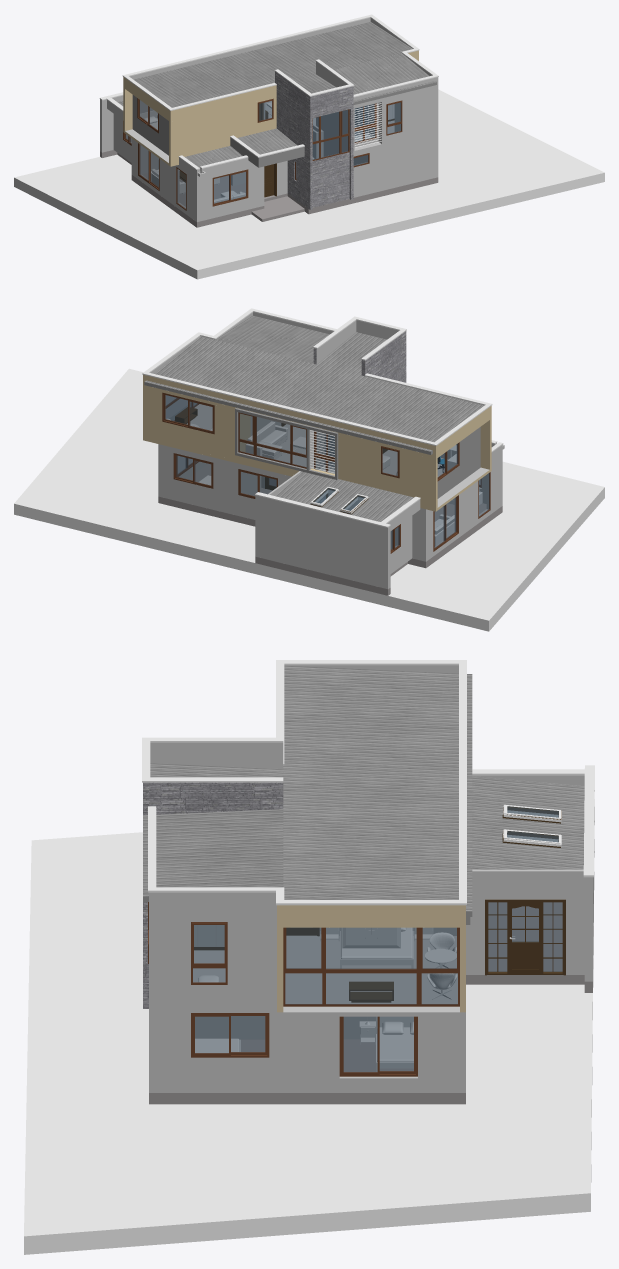
The model's file is casa_moderna.glb.
The picture shows the model from 3 angles, top to bottom: view 1: azimuth 30°, elevation 25°; view 2: azimuth 150°, elevation 25°; view 3: azimuth 270°, elevation 25°; orthographic projection. The views are drawn at different scales.
Parts seen in each view (by area): view 1: Material10, Material6, Material43, Material40, Material5, Material13, Material15, Material19; view 2: Material10, Material43, Material6, Material5, Material15, Material13, Material19, Material40; view 3: Material10, Material43, Material6, Material5, Material13, Material15, Material40, Material19.
Boxes of the visible parts, x1,y1,x2,y2 form: Material10: (14,14,604,279); Material6: (100,17,438,221); Material43: (118,22,436,167); Material40: (275,71,353,209); Material5: (125,100,400,208); Material13: (100,150,438,227); Material15: (123,98,402,210); Material19: (144,116,245,203); Material10: (14,308,604,631); Material43: (145,315,484,521); Material6: (150,312,504,589); Material5: (165,395,489,549); Material15: (162,392,490,553); Material13: (158,464,502,595); Material19: (166,418,482,546); Material40: (313,331,406,382); Material10: (24,660,594,1254); Material43: (143,665,584,911); Material6: (149,665,593,1092); Material5: (193,806,562,1072); Material13: (149,893,593,1104); Material15: (148,902,459,1076); Material40: (143,782,283,1008); Material19: (195,927,457,1061).
Bounding box in the file's own units: 25.31 × 6.97 × 13.97.
9 materials, 6 textured.
